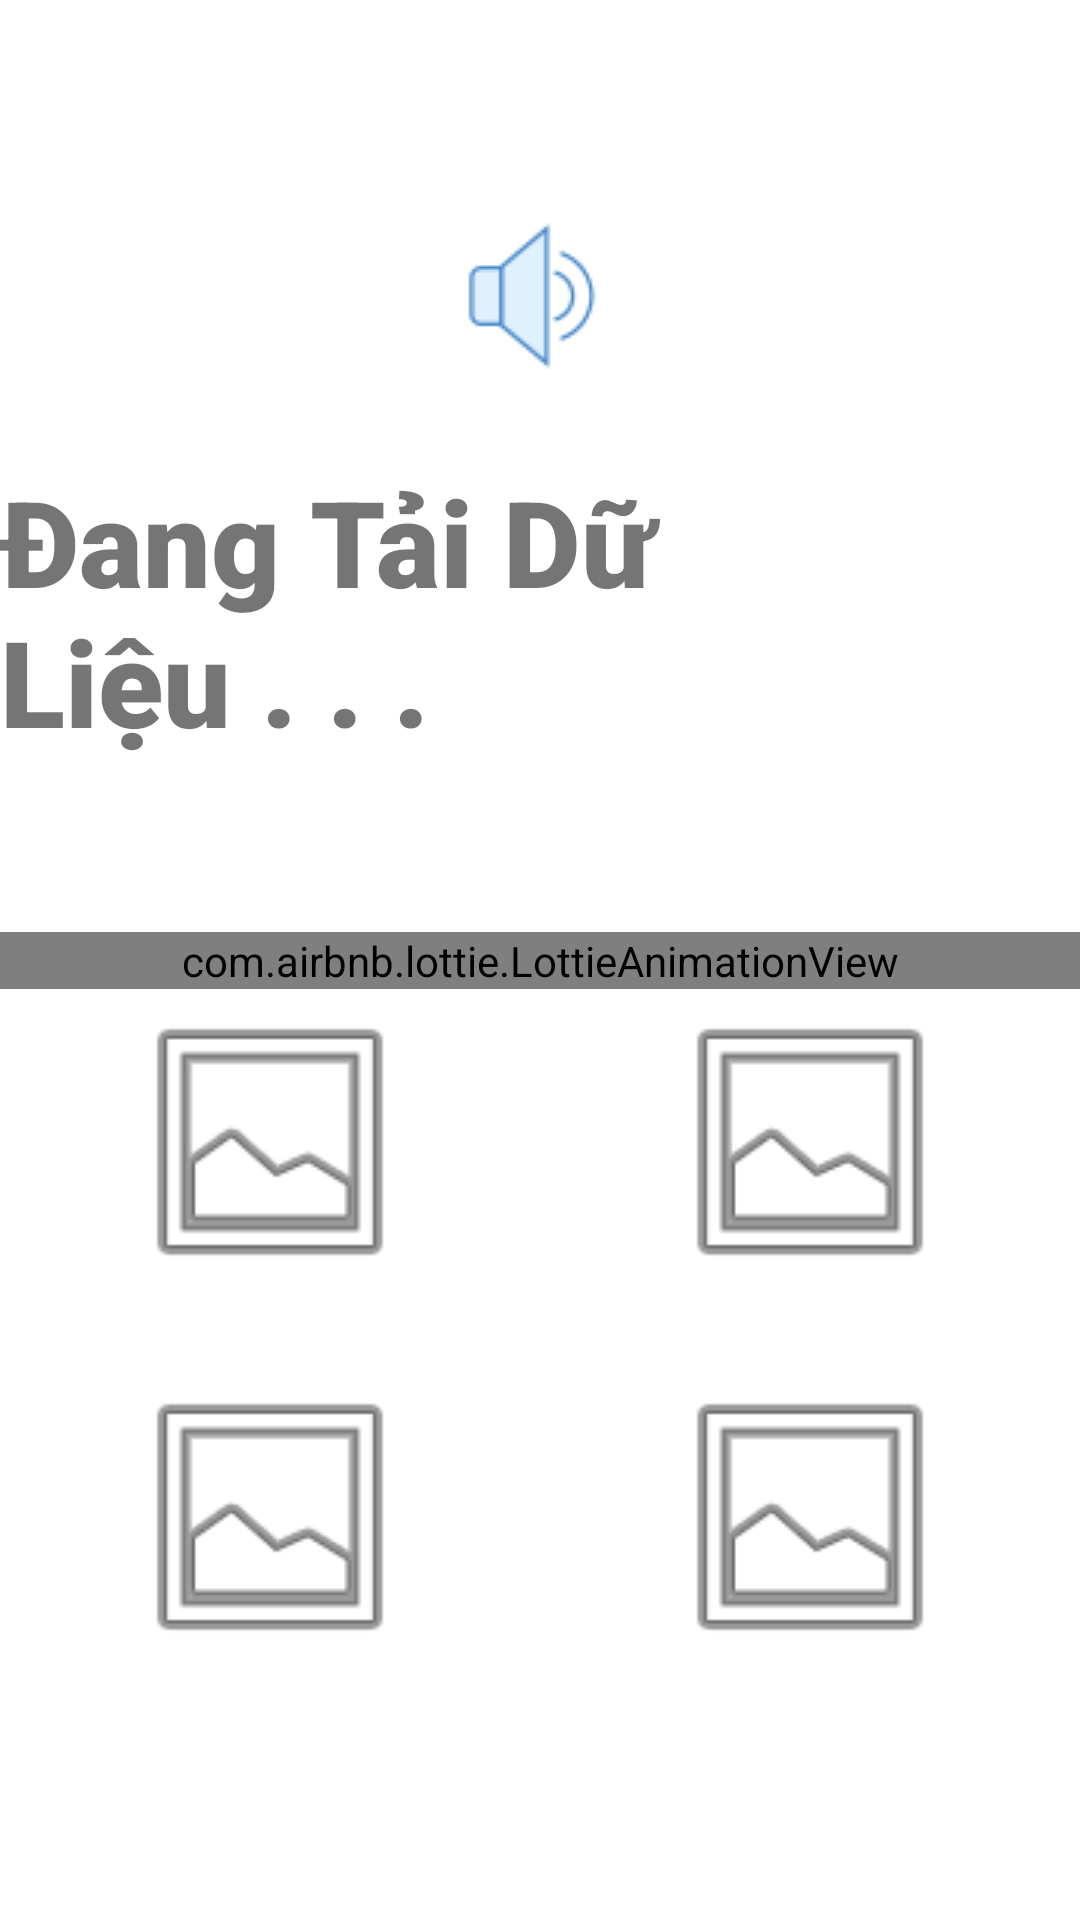

Icons on this 1080px×1920px Android screen, each with the point to tap as point (x, y):
gallery: point (270, 1142), point (810, 1142), point (270, 1517), point (810, 1517)
voice: point (532, 296)
